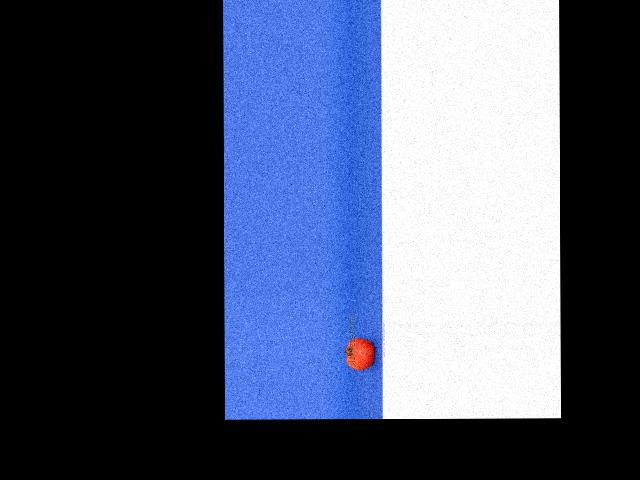tomato: (346, 338, 374, 371)
